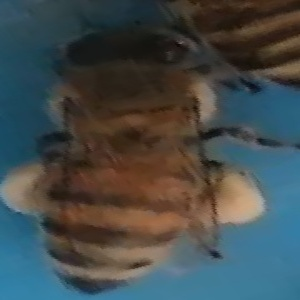bee: (3, 23, 202, 297)
